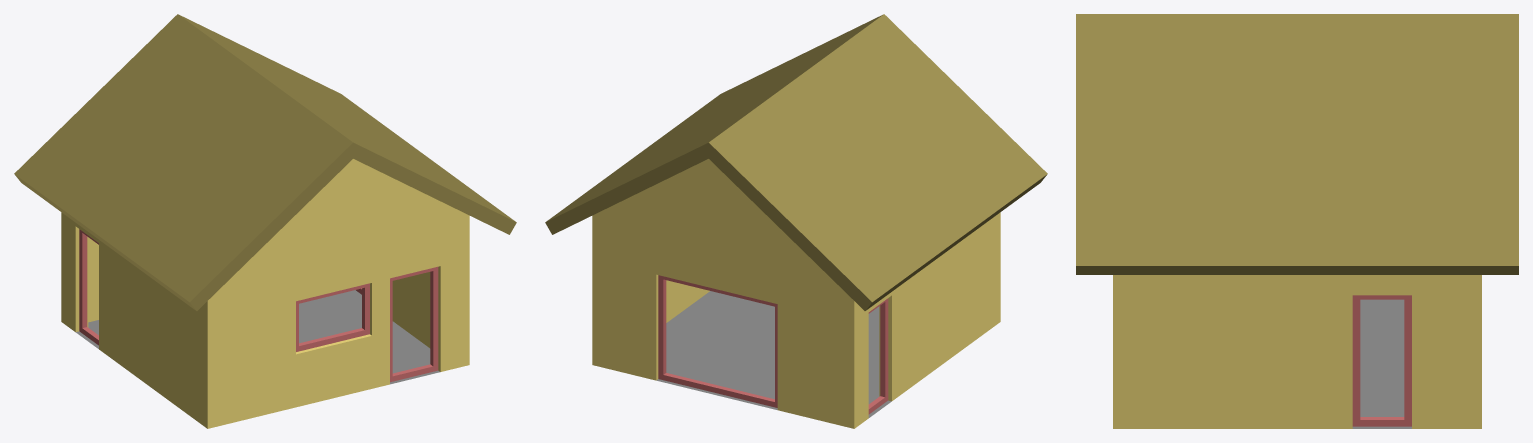
File: result.glb
3 views of the same model, side by side, from view 1: azimuth 30°, elevation 25°; view 2: azimuth 150°, elevation 25°; view 3: azimuth 270°, elevation 25° (orthographic). The views are drawn at different scales.
Visible parts, largest first — view 1: 42d43b97-e597-48ee-b622-424dd56dd590__undefined (×2), de60f3a9-306d-4904-82f6-060d73d4ed8a__undefined, 84ef9286-2c2b-4f20-8991-13fdbafb4bb5__Plane_6, 70d9f4b4-534d-4ca2-a61b-0df759f126df__Box, c1198bfb-25d8-4690-a2d8-38dac9d25bdb__Box_3, 43bde60e-545b-47a2-abcc-6745c67f20ac__Box_12; view 2: 42d43b97-e597-48ee-b622-424dd56dd590__undefined (×2), de60f3a9-306d-4904-82f6-060d73d4ed8a__undefined, 84ef9286-2c2b-4f20-8991-13fdbafb4bb5__Plane_6, 407633dc-b2a1-4951-afd0-3df63208b3f5__Box_9, 43bde60e-545b-47a2-abcc-6745c67f20ac__Box_12; view 3: 42d43b97-e597-48ee-b622-424dd56dd590__undefined, de60f3a9-306d-4904-82f6-060d73d4ed8a__undefined, 84ef9286-2c2b-4f20-8991-13fdbafb4bb5__Plane_6, f70b93f7-01d8-4ca3-8384-7331ba0be16d__Box_15.
Boxes of the visible parts, left/top/right/bottom form: 42d43b97-e597-48ee-b622-424dd56dd590__undefined (×2): left=14, top=14, right=516, bottom=310; de60f3a9-306d-4904-82f6-060d73d4ed8a__undefined: left=61, top=159, right=469, bottom=428; 84ef9286-2c2b-4f20-8991-13fdbafb4bb5__Plane_6: left=76, top=290, right=440, bottom=384; 70d9f4b4-534d-4ca2-a61b-0df759f126df__Box: left=390, top=266, right=438, bottom=382; c1198bfb-25d8-4690-a2d8-38dac9d25bdb__Box_3: left=296, top=283, right=369, bottom=351; 43bde60e-545b-47a2-abcc-6745c67f20ac__Box_12: left=79, top=229, right=98, bottom=345; 42d43b97-e597-48ee-b622-424dd56dd590__undefined (×2): left=545, top=14, right=1047, bottom=310; de60f3a9-306d-4904-82f6-060d73d4ed8a__undefined: left=592, top=159, right=1000, bottom=428; 84ef9286-2c2b-4f20-8991-13fdbafb4bb5__Plane_6: left=656, top=291, right=891, bottom=417; 407633dc-b2a1-4951-afd0-3df63208b3f5__Box_9: left=658, top=275, right=777, bottom=407; 43bde60e-545b-47a2-abcc-6745c67f20ac__Box_12: left=868, top=298, right=888, bottom=414; 42d43b97-e597-48ee-b622-424dd56dd590__undefined: left=1076, top=14, right=1518, bottom=274; de60f3a9-306d-4904-82f6-060d73d4ed8a__undefined: left=1113, top=275, right=1481, bottom=428; 84ef9286-2c2b-4f20-8991-13fdbafb4bb5__Plane_6: left=1352, top=299, right=1411, bottom=428; f70b93f7-01d8-4ca3-8384-7331ba0be16d__Box_15: left=1352, top=295, right=1411, bottom=426.
Size of the model in its own units: 646 by 500 by 600.
